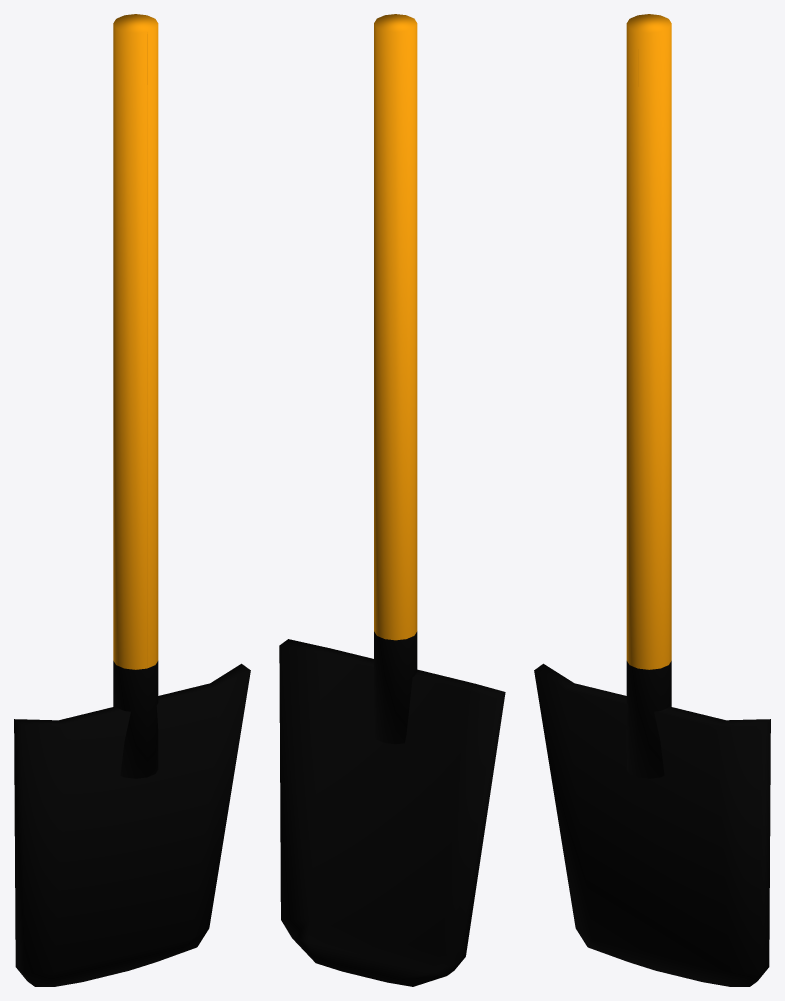
The model's file is lopata.fbx.
3 renders of one model, left to right at view 1: azimuth 30°, elevation 25°; view 2: azimuth 150°, elevation 25°; view 3: azimuth 330°, elevation 25°, orthographic. The views are drawn at different scales.
Visible parts, largest first — view 1: Lopata; view 2: Lopata; view 3: Lopata.
Boxes of the visible parts, <box> form: Lopata: <box>14,14,250,986</box>; Lopata: <box>279,14,505,986</box>; Lopata: <box>534,14,770,986</box>.
Bounding box in the file's own units: 537 × 2197 × 180.
